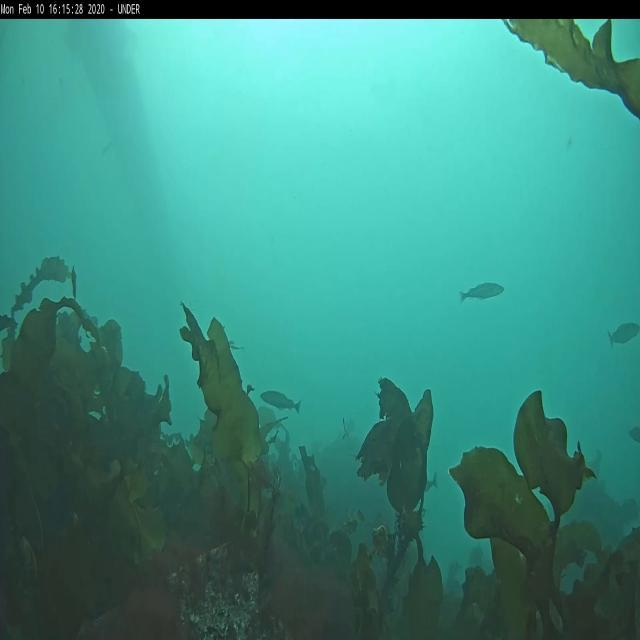fish: (260, 390, 302, 418), (461, 281, 504, 303), (606, 322, 640, 348)
